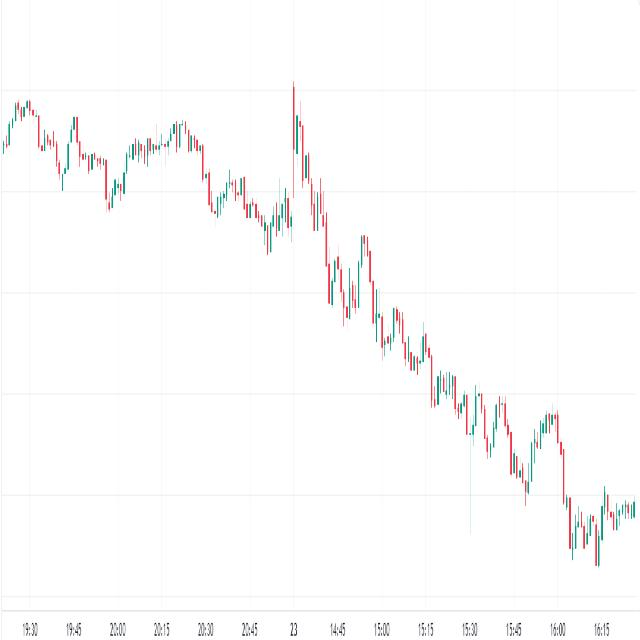Ascending-Triangle: (310, 149, 533, 542)
